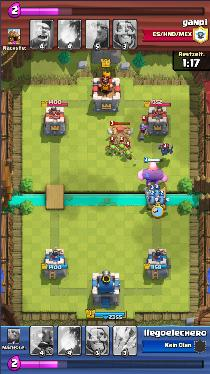ally_giant: (137, 162, 168, 185)
ally_minion: (158, 193, 168, 205), (148, 193, 157, 205), (154, 189, 162, 197)
ally_musketeer: (142, 188, 155, 206)
enemy_goblin_hut: (108, 125, 133, 150)
enemy_mini_pekka: (158, 142, 175, 157)
enemy_musketeer: (137, 122, 149, 141)
enemy_spear_goblin: (106, 143, 119, 155), (125, 150, 137, 163), (118, 144, 126, 155)
